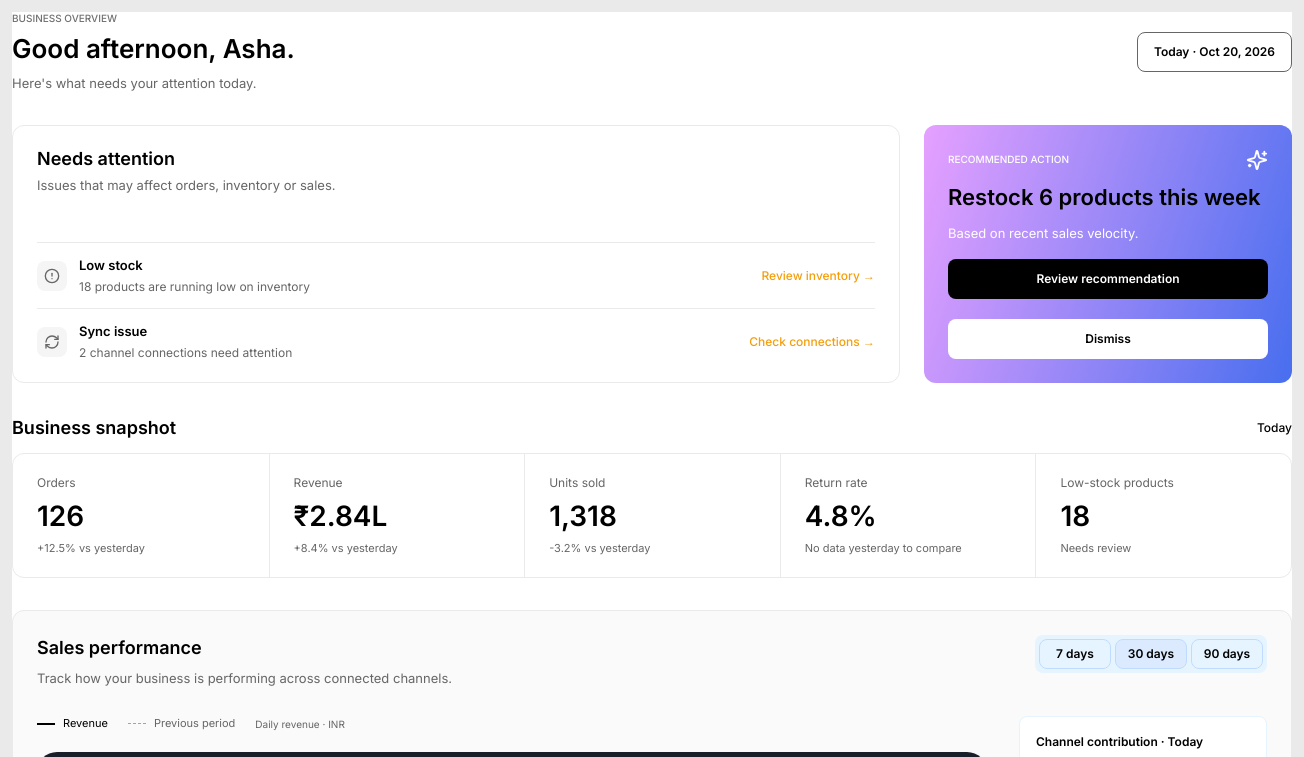
Test: DashboardPage › dismisses the recommendation through the API and removes the card
This screenshot has width=1304, height=757.
Click the button "Dismiss" at coordinates (1108, 339), box [948,319,1268,359]
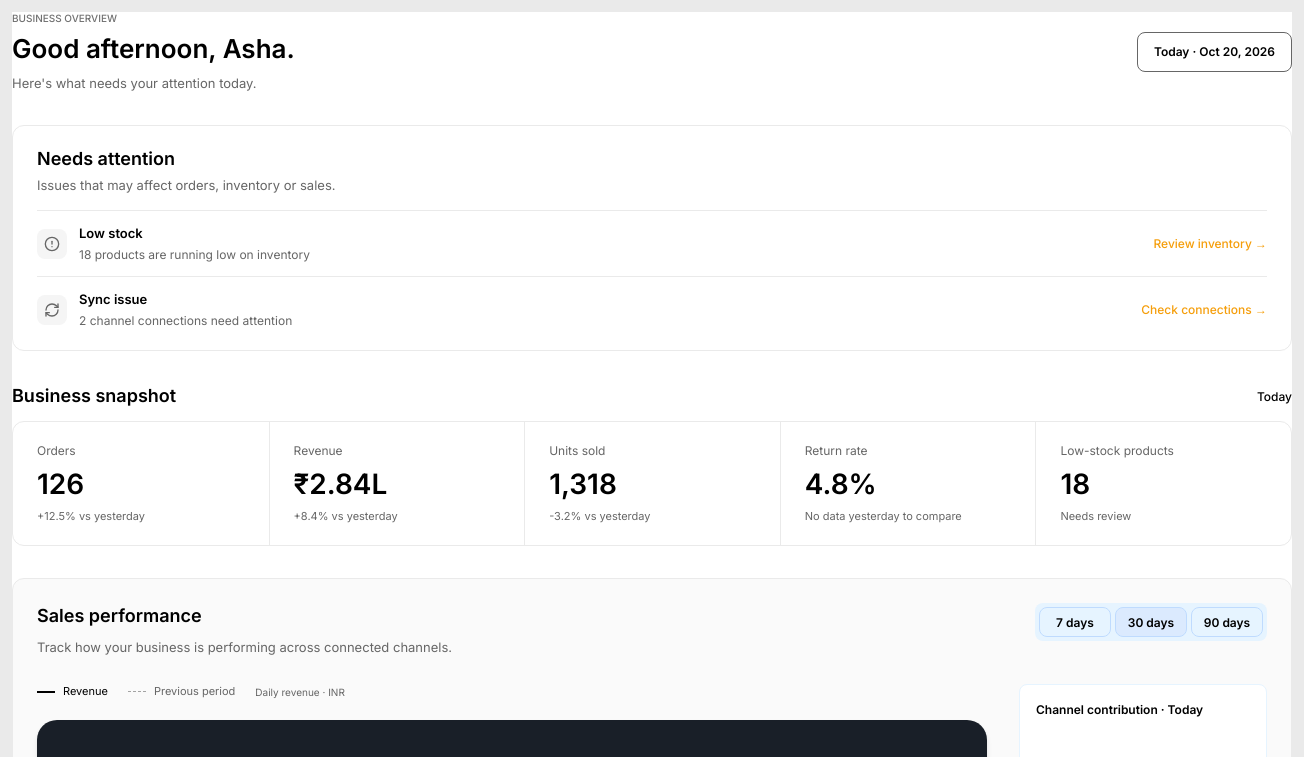
expect the heading "Restock 6 products this week" is gone: met
